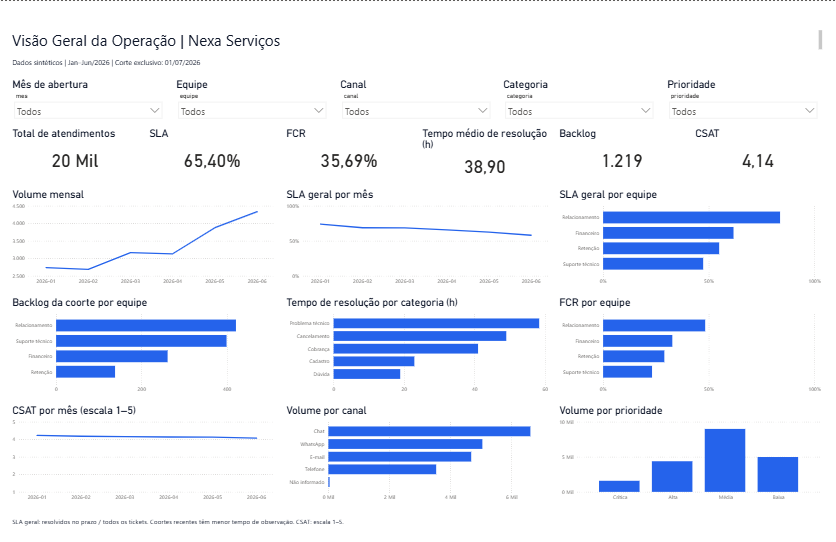

This screenshot's page, from the dashboard's own definition file:
{"tool":"powerbi","page":{"name":"Visão Geral da Operação","canvas":[1920,1200],"ordinal":0},"visuals":[{"type":"textbox","box":[24,16,1872,55],"z":8},{"type":"textbox","box":[24,78,1872,42],"z":9},{"type":"slicer","title":"Mês de abertura","fields":{"Values":["Calendario.mes"]},"box":[24,132,360,96],"z":10},{"type":"slicer","title":"Equipe","fields":{"Values":["Atendimentos.equipe"]},"box":[400,132,360,96],"z":11},{"type":"slicer","title":"Canal","fields":{"Values":["Atendimentos.canal"]},"box":[776,132,360,96],"z":12},{"type":"slicer","title":"Categoria","fields":{"Values":["Atendimentos.categoria"]},"box":[1152,132,360,96],"z":13},{"type":"slicer","title":"Prioridade","fields":{"Values":["Atendimentos.prioridade"]},"box":[1528,132,360,96],"z":14},{"type":"textbox","box":[24,1136,1872,50],"z":15},{"type":"card","title":"Total de atendimentos","fields":{"Values":["Atendimentos.Total de atendimentos"]},"box":[24,244,298,120],"z":25},{"type":"card","title":"SLA","fields":{"Values":["Atendimentos.SLA"]},"box":[338,244,298,120],"z":26},{"type":"card","title":"FCR","fields":{"Values":["Atendimentos.FCR"]},"box":[652,244,298,120],"z":27},{"type":"card","title":"Tempo médio de resolução (h)","fields":{"Values":["Atendimentos.Tempo médio de resolução"]},"box":[966,244,298,120],"z":28},{"type":"card","title":"Backlog","fields":{"Values":["Atendimentos.Backlog"]},"box":[1280,244,298,120],"z":29},{"type":"card","title":"CSAT","fields":{"Values":["Atendimentos.CSAT"]},"box":[1594,244,298,120],"z":30},{"type":"lineChart","title":"Volume mensal","fields":{"Category":["Calendario.mes"],"Y":["Atendimentos.Total de atendimentos"]},"box":[24,384,612,232],"z":31},{"type":"lineChart","title":"SLA geral por mês","fields":{"Category":["Calendario.mes"],"Y":["Atendimentos.SLA"]},"box":[652,384,612,232],"z":32},{"type":"barChart","title":"SLA geral por equipe","fields":{"Category":["Atendimentos.equipe"],"Y":["Atendimentos.SLA"]},"box":[1280,384,612,232],"z":33},{"type":"barChart","title":"Backlog da coorte por equipe","fields":{"Category":["Atendimentos.equipe"],"Y":["Atendimentos.Backlog"]},"box":[24,632,612,232],"z":34},{"type":"barChart","title":"Tempo de resolução por categoria (h)","fields":{"Category":["Atendimentos.categoria"],"Y":["Atendimentos.Tempo médio de resolução"]},"box":[652,632,612,232],"z":35},{"type":"barChart","title":"FCR por equipe","fields":{"Category":["Atendimentos.equipe"],"Y":["Atendimentos.FCR"]},"box":[1280,632,612,232],"z":36},{"type":"lineChart","title":"CSAT por mês (escala 1–5)","fields":{"Category":["Calendario.mes"],"Y":["Atendimentos.CSAT"]},"box":[24,880,612,232],"z":37},{"type":"barChart","title":"Volume por canal","fields":{"Category":["Atendimentos.canal"],"Y":["Atendimentos.Total de atendimentos"]},"box":[652,880,612,232],"z":38},{"type":"clusteredColumnChart","title":"Volume por prioridade","fields":{"Category":["Atendimentos.prioridade"],"Y":["Atendimentos.Total de atendimentos"]},"box":[1280,880,612,232],"z":39}]}

Visuals, with their boxes on the page's 1920x1200 design canvas (x1, y1, x2, y2). These are canvas units, not pixel positions in the 836x542 screenshot, which may show the page scaled, cropped or inside an application window:
textbox: 24:16:1896:71
textbox: 24:78:1896:120
"Mês de abertura" slicer: 24:132:384:228
"Equipe" slicer: 400:132:760:228
"Canal" slicer: 776:132:1136:228
"Categoria" slicer: 1152:132:1512:228
"Prioridade" slicer: 1528:132:1888:228
textbox: 24:1136:1896:1186
"Total de atendimentos" card: 24:244:322:364
"SLA" card: 338:244:636:364
"FCR" card: 652:244:950:364
"Tempo médio de resolução (h)" card: 966:244:1264:364
"Backlog" card: 1280:244:1578:364
"CSAT" card: 1594:244:1892:364
"Volume mensal" lineChart: 24:384:636:616
"SLA geral por mês" lineChart: 652:384:1264:616
"SLA geral por equipe" barChart: 1280:384:1892:616
"Backlog da coorte por equipe" barChart: 24:632:636:864
"Tempo de resolução por categoria (h)" barChart: 652:632:1264:864
"FCR por equipe" barChart: 1280:632:1892:864
"CSAT por mês (escala 1–5)" lineChart: 24:880:636:1112
"Volume por canal" barChart: 652:880:1264:1112
"Volume por prioridade" clusteredColumnChart: 1280:880:1892:1112
